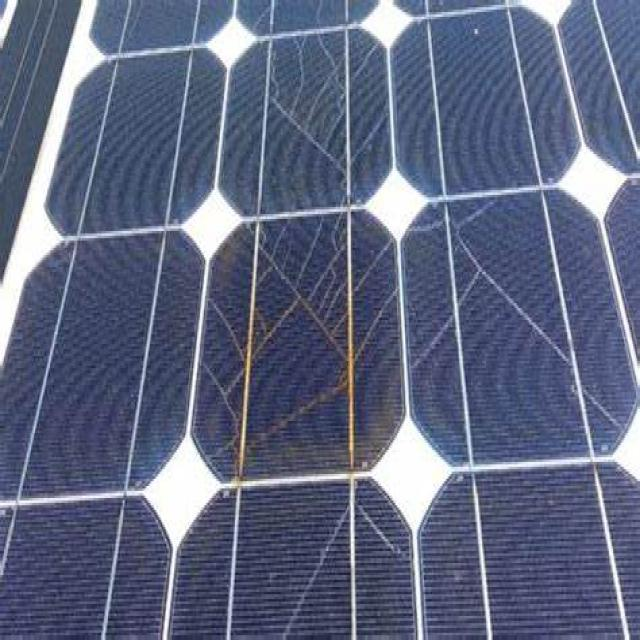electrical damage: (181, 200, 416, 500)
